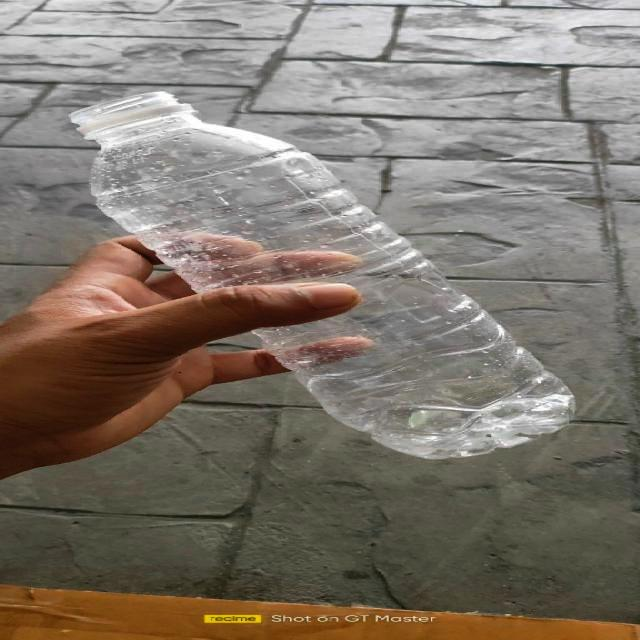bottle: (72, 91, 578, 459)
